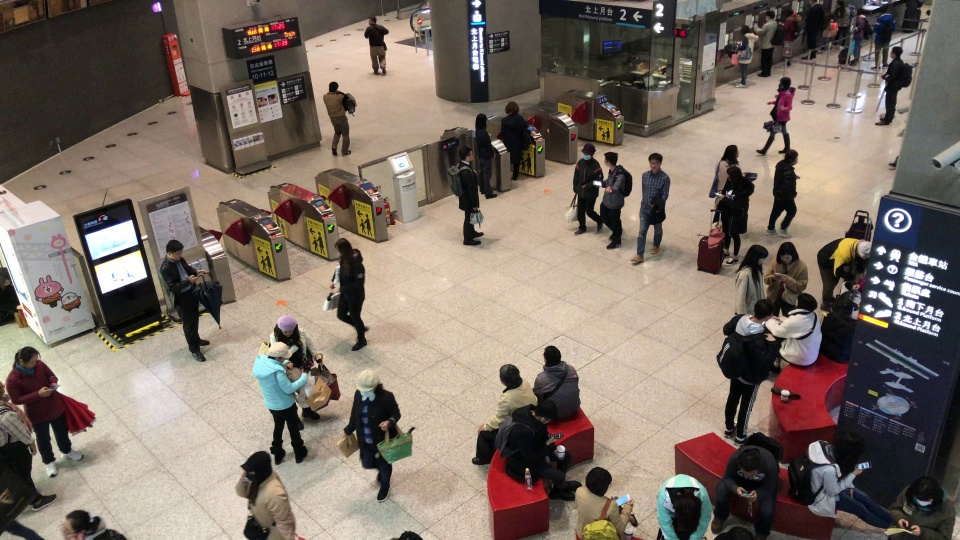person_head: (61, 509, 93, 540), (835, 432, 866, 463), (244, 450, 271, 482), (584, 467, 612, 496), (912, 479, 937, 507), (356, 368, 380, 396), (736, 450, 759, 477), (14, 346, 40, 368), (534, 400, 557, 424), (775, 240, 798, 264), (268, 341, 291, 363), (745, 244, 768, 266), (499, 363, 520, 386), (675, 498, 698, 519), (753, 299, 773, 320), (795, 293, 818, 311), (165, 239, 184, 260), (277, 315, 296, 336), (543, 345, 562, 365), (334, 238, 353, 257), (856, 240, 871, 260), (728, 527, 753, 539), (603, 151, 619, 169), (647, 152, 663, 170), (722, 144, 740, 160), (725, 166, 742, 182), (458, 146, 474, 162), (580, 143, 596, 158), (784, 149, 798, 166), (504, 100, 520, 114), (0, 267, 11, 287), (475, 113, 487, 129), (778, 76, 791, 89), (889, 46, 903, 58), (764, 10, 776, 21), (328, 80, 338, 92), (740, 24, 750, 34), (784, 7, 794, 16), (856, 8, 866, 16), (368, 16, 377, 24), (835, 0, 844, 8), (879, 7, 888, 15), (0, 381, 5, 394), (809, 0, 818, 5)
person_vbox: (5, 346, 84, 478), (787, 432, 892, 529), (714, 298, 776, 447), (494, 400, 583, 502), (340, 368, 401, 503), (710, 432, 784, 539), (0, 381, 57, 512), (252, 341, 308, 466), (470, 364, 538, 465), (157, 239, 210, 363), (269, 316, 323, 430), (234, 450, 296, 540), (574, 466, 639, 540), (765, 292, 822, 376), (629, 152, 671, 265), (328, 237, 368, 352), (711, 166, 756, 267), (885, 476, 955, 540), (816, 237, 871, 314), (446, 147, 484, 246), (532, 345, 581, 421), (656, 474, 712, 540), (763, 241, 808, 316), (599, 150, 632, 250), (763, 150, 800, 239), (754, 76, 796, 154), (873, 46, 912, 126), (572, 143, 603, 236), (496, 101, 531, 180), (707, 144, 739, 224), (322, 80, 354, 156), (732, 244, 766, 315), (59, 509, 126, 540), (475, 112, 498, 199), (753, 10, 782, 77), (869, 6, 896, 71), (731, 25, 758, 89), (801, 0, 829, 59), (363, 15, 389, 75), (778, 8, 801, 68), (850, 8, 873, 68), (830, 0, 856, 50), (0, 267, 21, 327)
